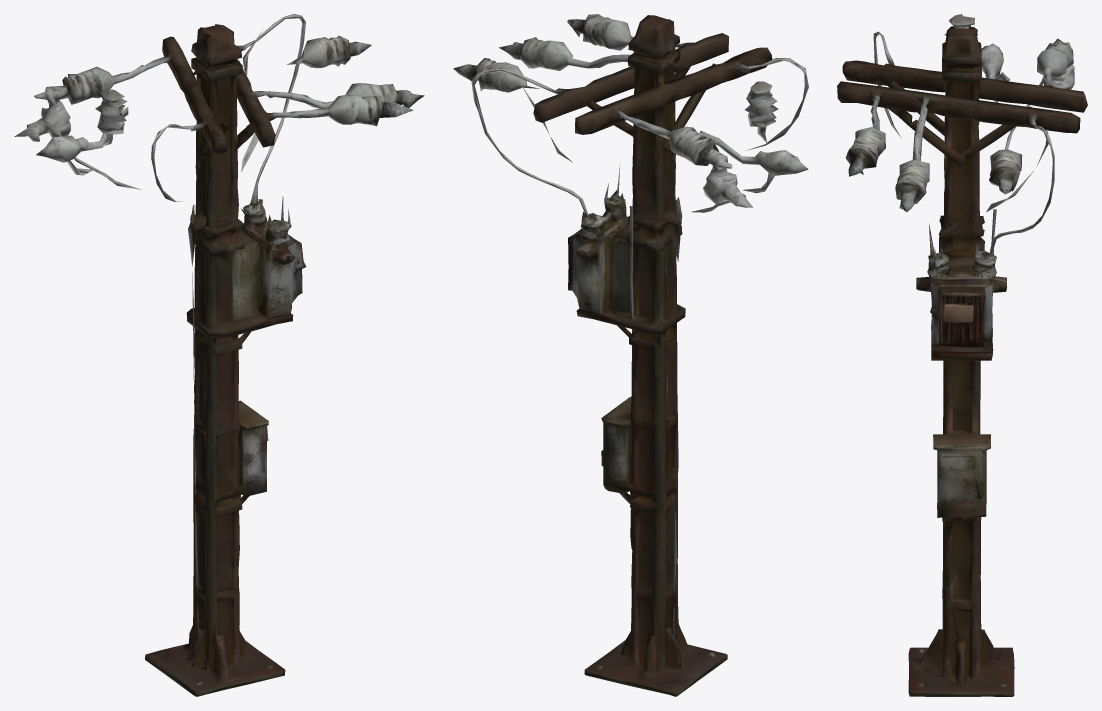
Rendered from electricpoleroadside.glb.
The picture shows the model from 3 angles, left to right: view 1: azimuth 30°, elevation 25°; view 2: azimuth 150°, elevation 25°; view 3: azimuth 270°, elevation 25°; orthographic projection.
Visible parts, largest first — view 1: tripo_node_b6117f00-5cff-43e4-a6f0-1e3619c75350; view 2: tripo_node_b6117f00-5cff-43e4-a6f0-1e3619c75350; view 3: tripo_node_b6117f00-5cff-43e4-a6f0-1e3619c75350.
Part boxes in pixels (x1,y1,x2,y2): tripo_node_b6117f00-5cff-43e4-a6f0-1e3619c75350: (14,14,424,696); tripo_node_b6117f00-5cff-43e4-a6f0-1e3619c75350: (453,14,808,696); tripo_node_b6117f00-5cff-43e4-a6f0-1e3619c75350: (837,14,1087,696).
Bounding box in the file's own units: 0.5717 × 1 × 0.3536.
Materials: 1 (1 with a texture image).
